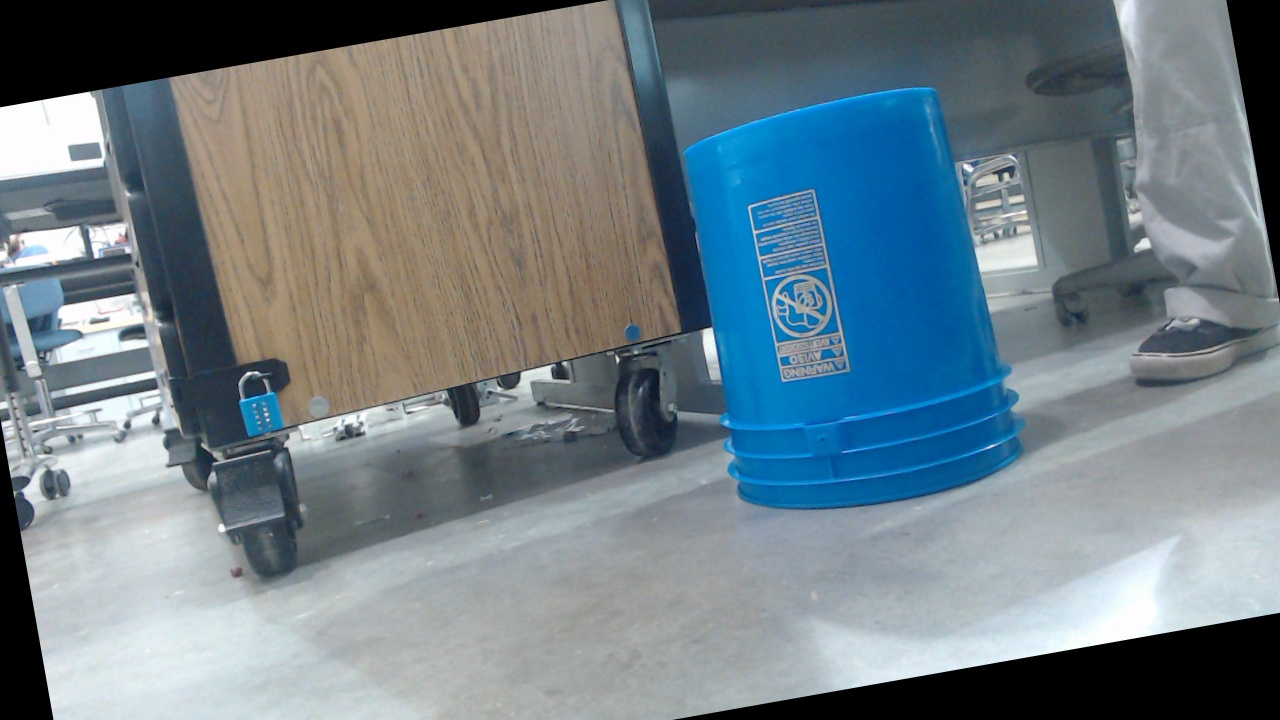blue_bucket: (674, 151, 1051, 616)
